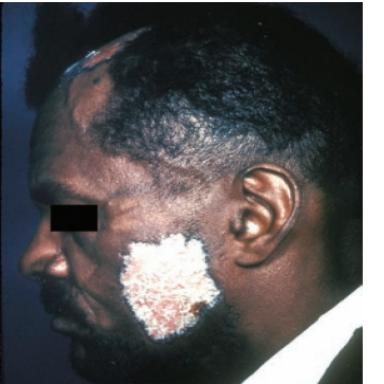Lupus-Erythematosus-Chronicus-Discoides: (118, 233, 222, 341)
